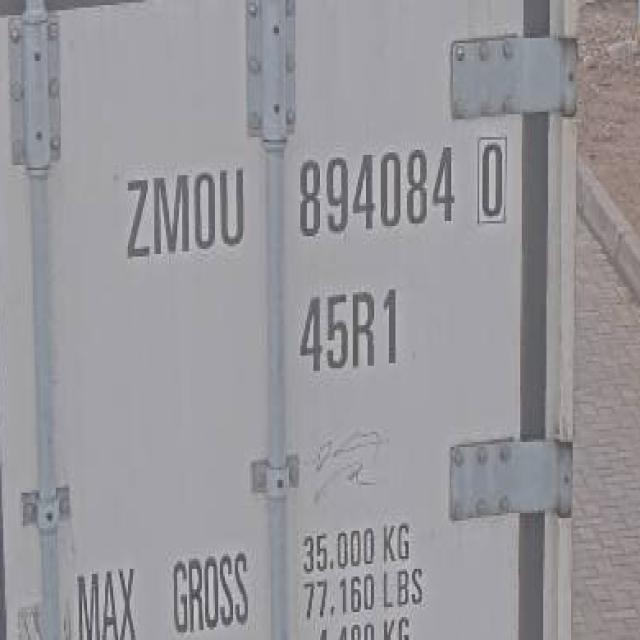dv: (470, 128, 511, 229)
owner: (116, 158, 255, 269)
serial: (290, 138, 460, 252)
size: (294, 281, 406, 372)
